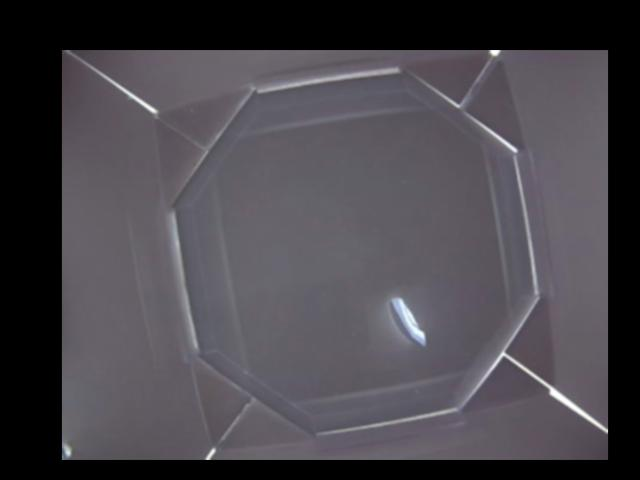China: (386, 295, 426, 346)
